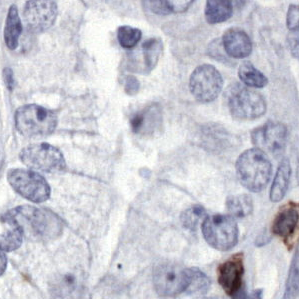Lymphocyte: (218, 253, 245, 296)
